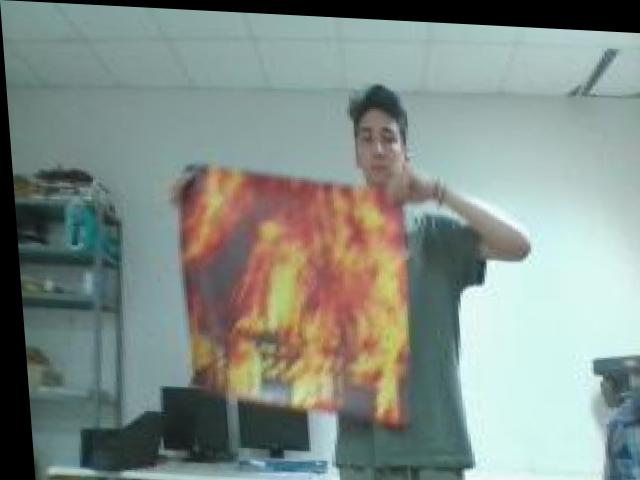fire-poster: (166, 158, 418, 428)
